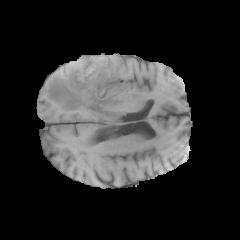glioma: (48, 55, 122, 112)
